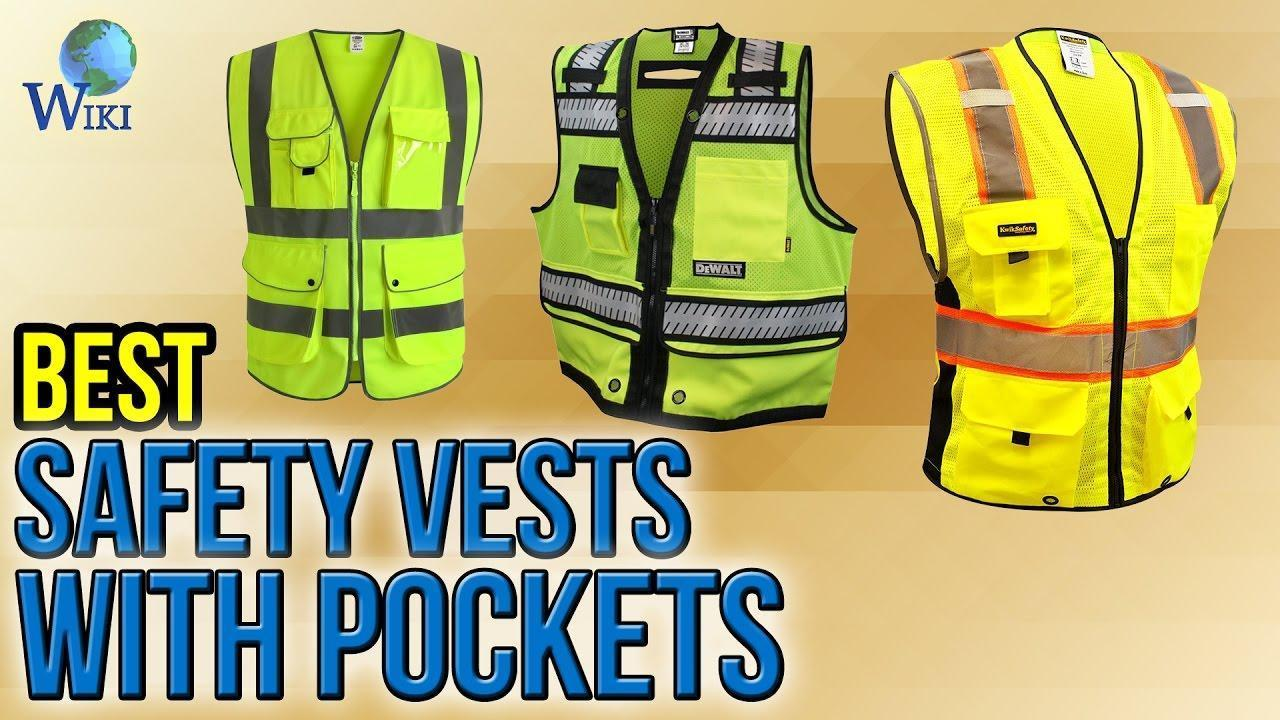vest: (882, 20, 1239, 515), (530, 23, 857, 432), (218, 24, 483, 402)
